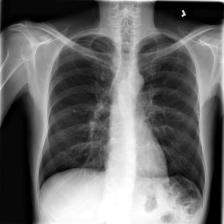normal: (36, 28, 208, 221)
